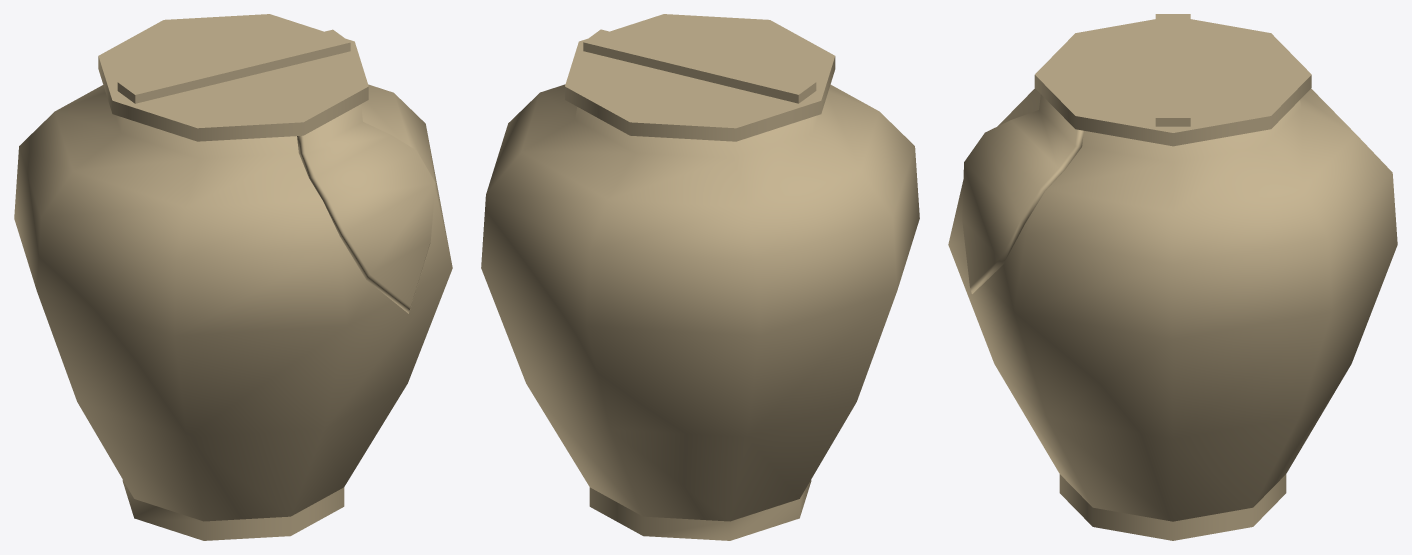
The model's file is Vase_2.glb.
3 renders of one model, left to right at view 1: azimuth 30°, elevation 25°; view 2: azimuth 150°, elevation 25°; view 3: azimuth 270°, elevation 25°, orthographic.
Parts seen in each view (by area): view 1: Vase_2; view 2: Vase_2; view 3: Vase_2.
Boxes of the visible parts, x1=… form: Vase_2: x1=14, y1=14, x2=452, y2=540; Vase_2: x1=481, y1=14, x2=919, y2=540; Vase_2: x1=948, y1=14, x2=1397, y2=540.
Bounding box in the file's own units: 0.5178 × 0.5433 × 0.5178.
